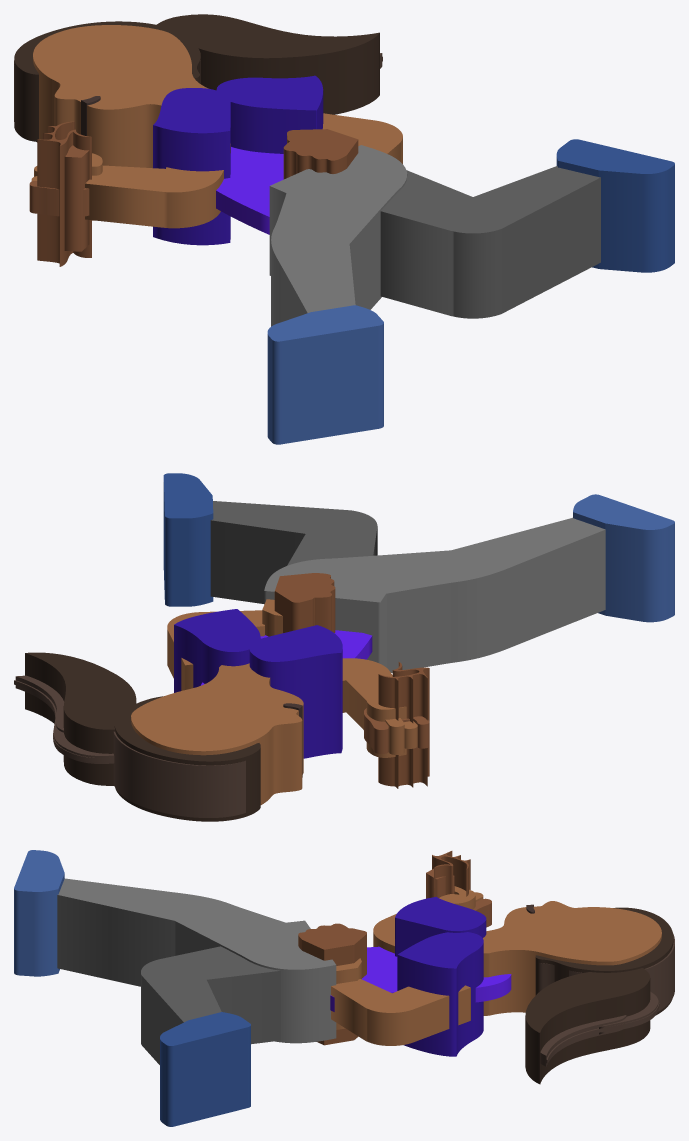
The model's file is emoji_u1f3c3_1f3fe_200d_2640.glb.
3 renders of one model, top to bottom at view 1: azimuth 30°, elevation 25°; view 2: azimuth 150°, elevation 25°; view 3: azimuth 270°, elevation 25°, orthographic. The views are drawn at different scales.
Visible parts, largest first — view 1: emoji_u1f3c3_1f3fe_200d_2640; view 2: emoji_u1f3c3_1f3fe_200d_2640; view 3: emoji_u1f3c3_1f3fe_200d_2640.
Boxes of the visible parts, <box> form: emoji_u1f3c3_1f3fe_200d_2640: <box>14,14,674,444</box>; emoji_u1f3c3_1f3fe_200d_2640: <box>14,473,674,821</box>; emoji_u1f3c3_1f3fe_200d_2640: <box>14,850,674,1126</box>.
Size of the model in its own units: 0.0227 by 0.0054 by 0.0326.
